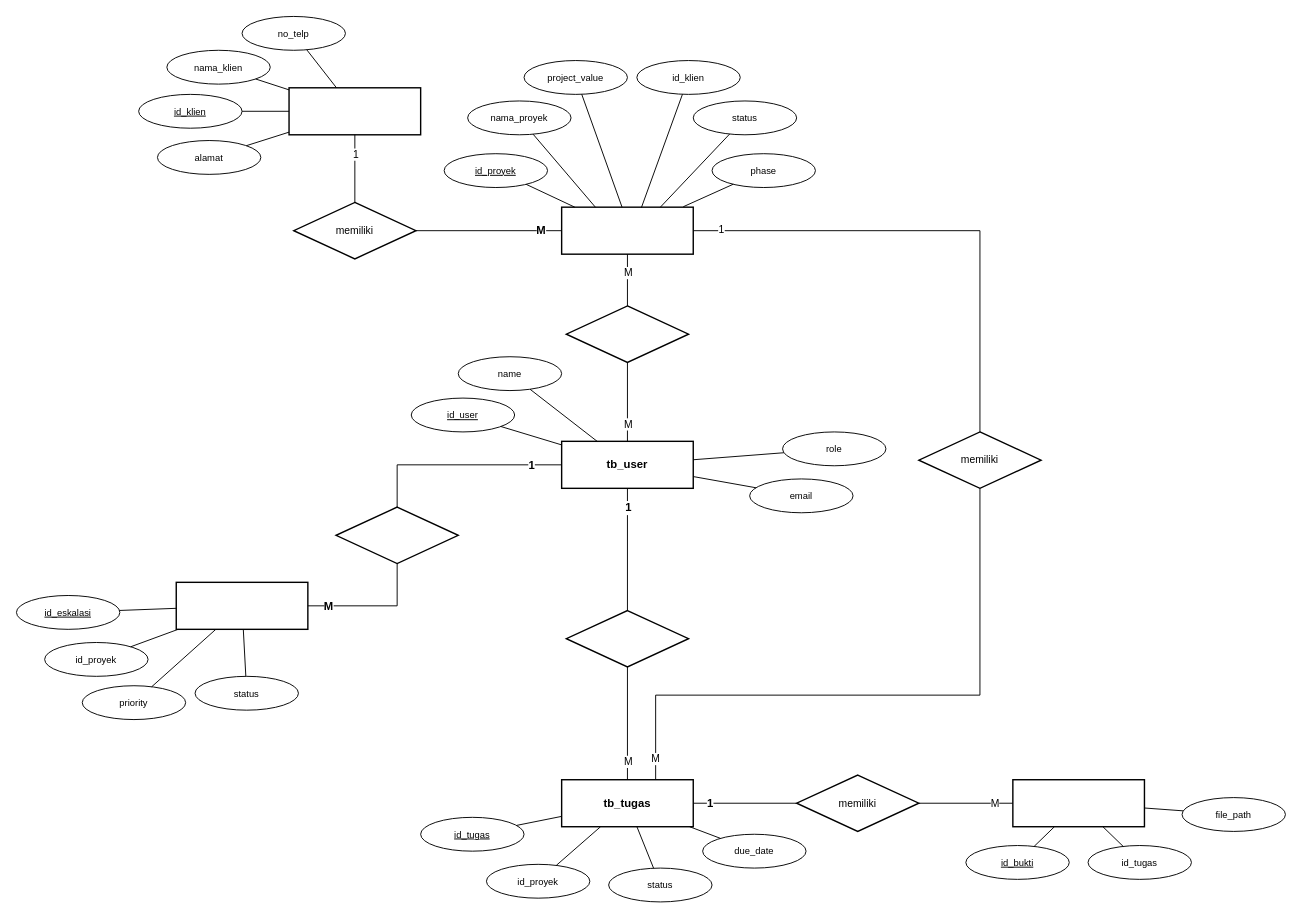
The diagram is 1302 pixels wide and 918 high, and some of its shapes have lost their labels. Each missing label, with the centre of its shape:
melaporkan: (x=397, y=535)
mengelola: (x=627, y=334)
mengerjakan: (x=627, y=638)
tb_bukti: (x=1078, y=803)
tb_eskalasi: (x=241, y=605)
tb_klien: (x=354, y=111)
tb_proyek: (x=627, y=230)
